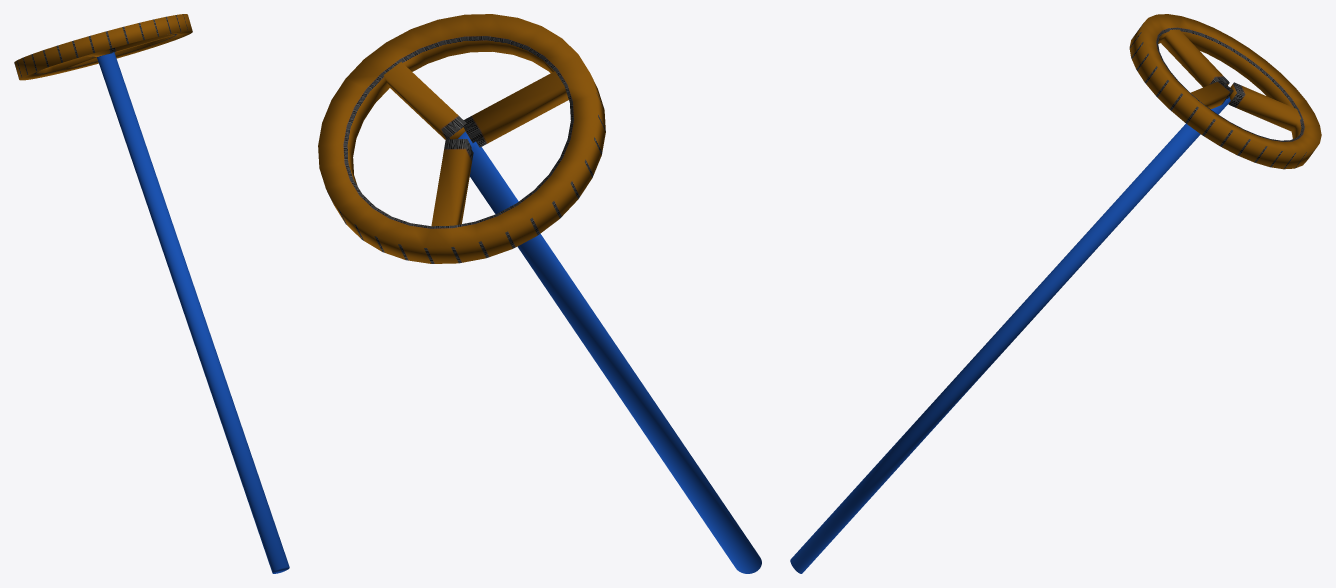
File: modelSteeringWheelobj.obj
3 renders of one model, left to right at view 1: azimuth 30°, elevation 25°; view 2: azimuth 150°, elevation 25°; view 3: azimuth 270°, elevation 25°, orthographic. The views are drawn at different scales.
Size of the model in its own units: 0.4087 by 1.11 by 0.9906.
